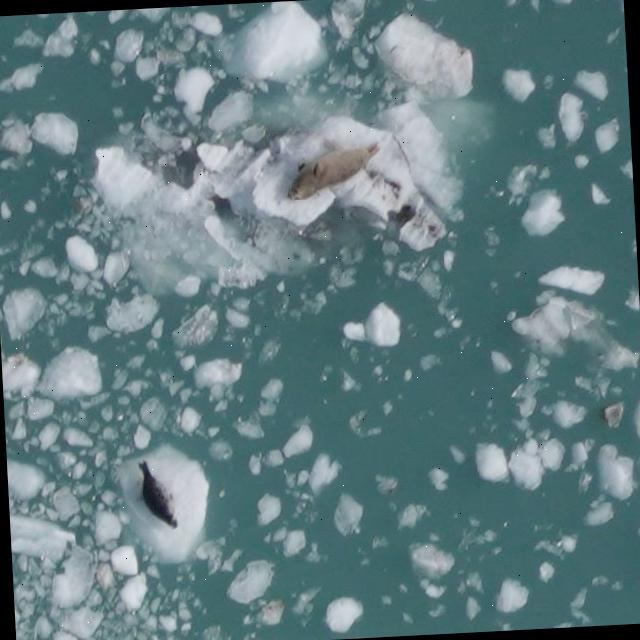seal: (278, 128, 390, 206), (121, 458, 192, 537)
